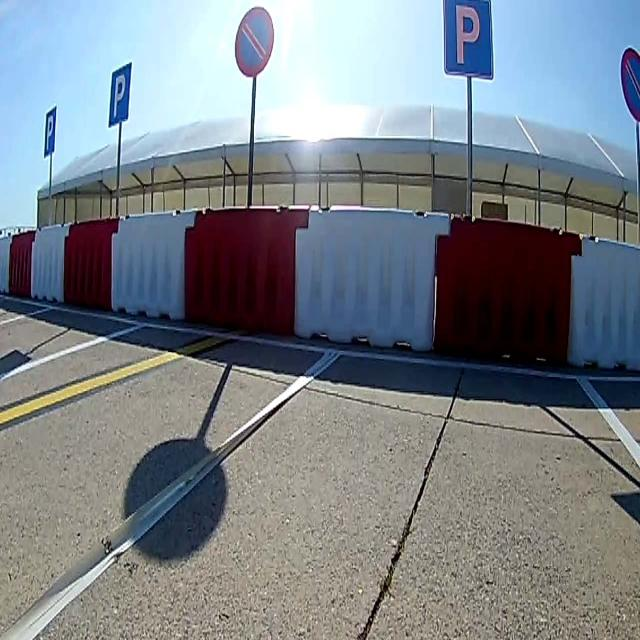park: (443, 1, 494, 81), (110, 65, 130, 126), (44, 106, 56, 154)
parkyasak: (235, 9, 273, 75)
